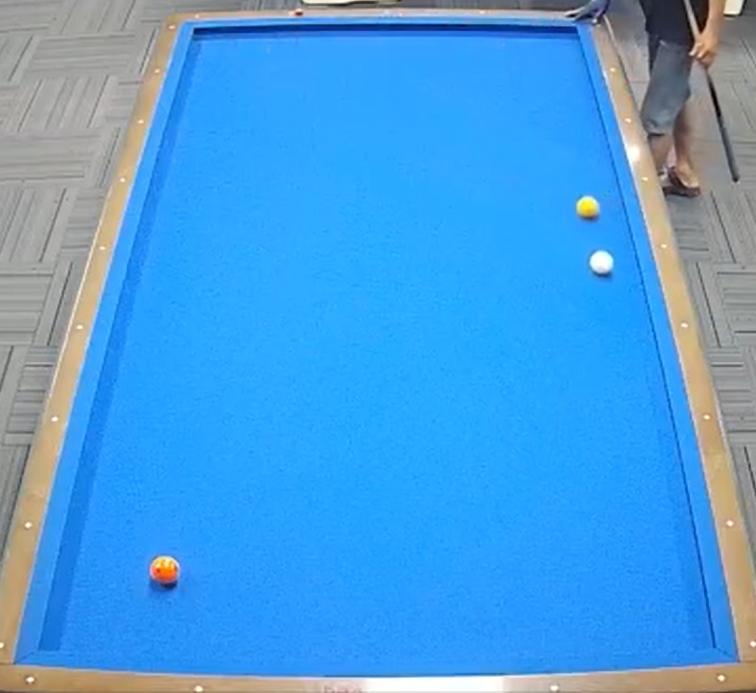orange ball: (147, 551, 187, 593)
white ball: (586, 245, 618, 282)
yellow ball: (572, 193, 605, 225)
